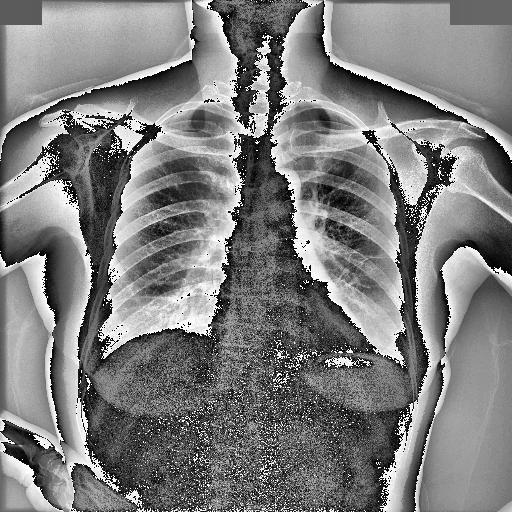13- Pulmonary fibrosis: (336, 253, 400, 285), (335, 254, 396, 280), (348, 250, 394, 270)
